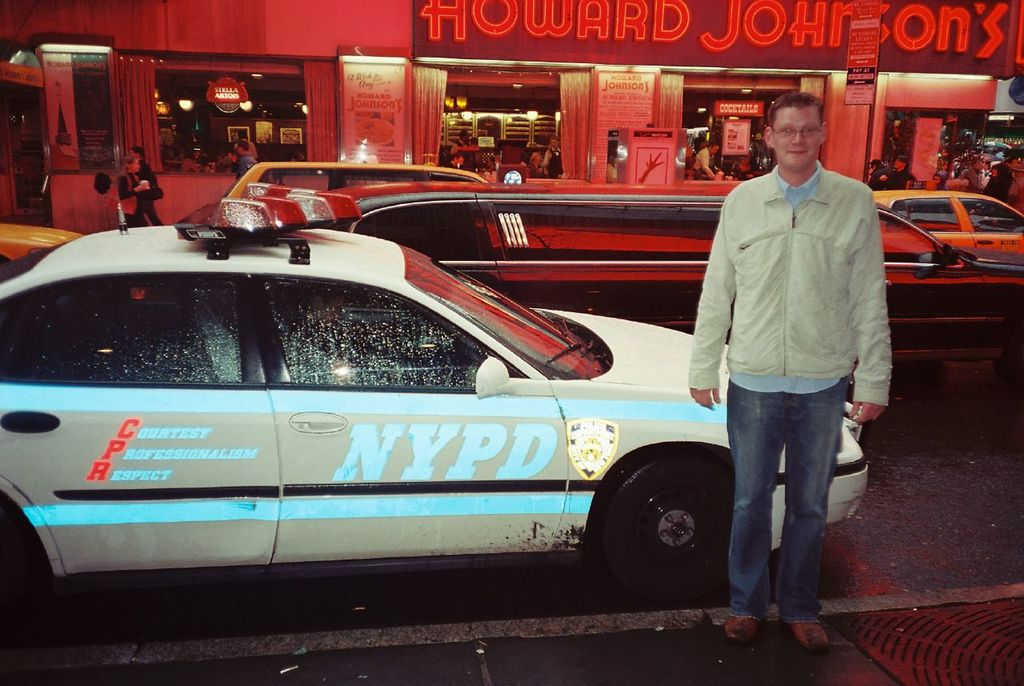Car: (0, 193, 867, 646), (336, 191, 1023, 373), (872, 189, 1023, 264), (221, 167, 495, 197)
